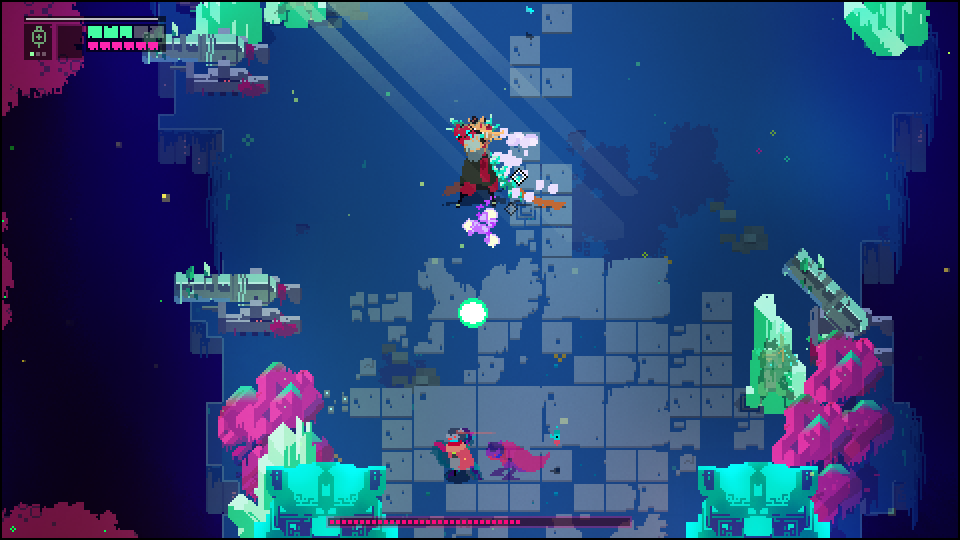hanged_man: (442, 112, 527, 213)
hanged_shot: (457, 298, 488, 329)
player: (439, 427, 475, 476)
